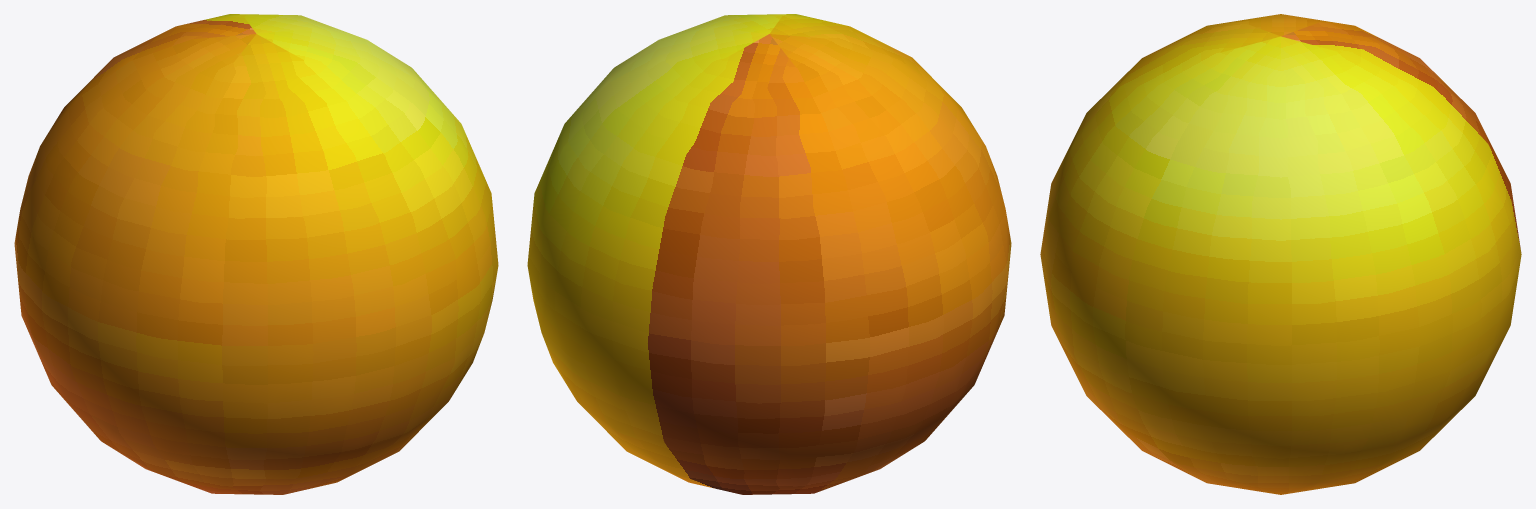
Rendered from Pinball.fbx.
3 views of the same model, side by side, from view 1: azimuth 30°, elevation 25°; view 2: azimuth 150°, elevation 25°; view 3: azimuth 270°, elevation 25° (orthographic).
Visible parts, largest first — view 1: Pinball; view 2: Pinball; view 3: Pinball.
Part boxes in pixels (x1,y1,x2,y2): Pinball: (14,14,498,494); Pinball: (527,14,1011,494); Pinball: (1040,14,1521,494).
Bounding box in the file's own units: 2.18 × 2.18 × 2.18.
Materials: 1 (1 with a texture image).
